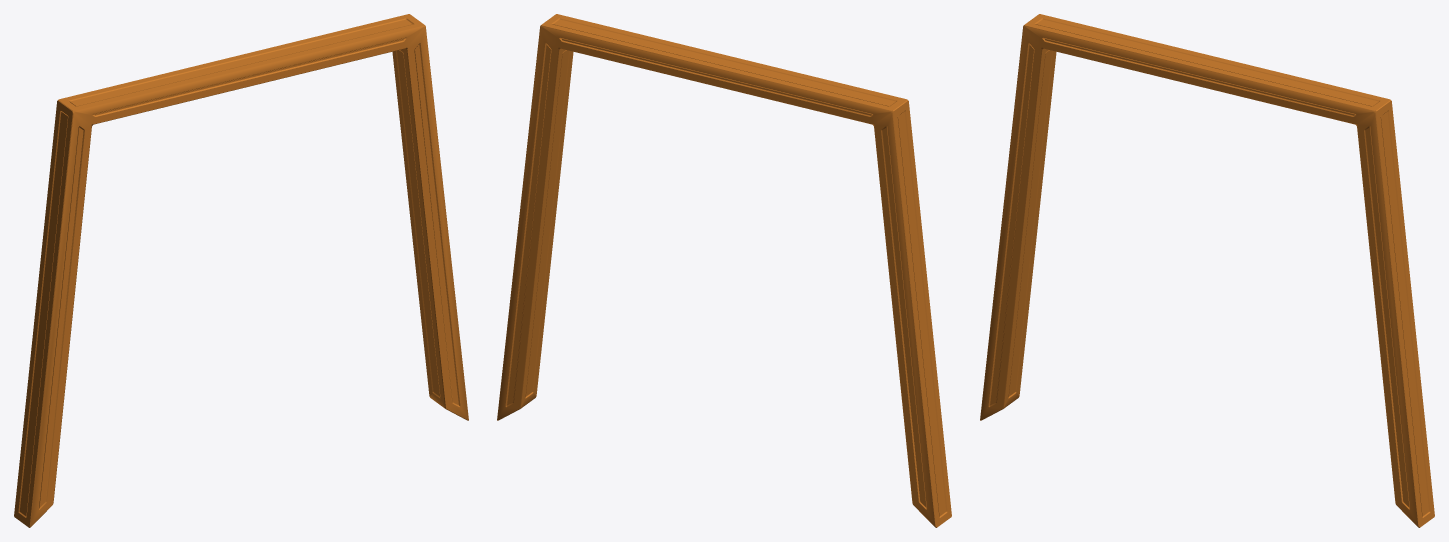
File: haapalinna_keinut.fbx
The picture shows the model from 3 angles, left to right: view 1: azimuth 30°, elevation 25°; view 2: azimuth 150°, elevation 25°; view 3: azimuth 330°, elevation 25°; orthographic projection.
Parts seen in each view (by area): view 1: Plane.027; view 2: Plane.027; view 3: Plane.027.
Part boxes in pixels (box(x1,y1,x2,y2)): Plane.027: box(14, 14, 468, 527); Plane.027: box(497, 14, 951, 527); Plane.027: box(980, 14, 1434, 527).
Size of the model in its own units: 470 by 416 by 30.17.
